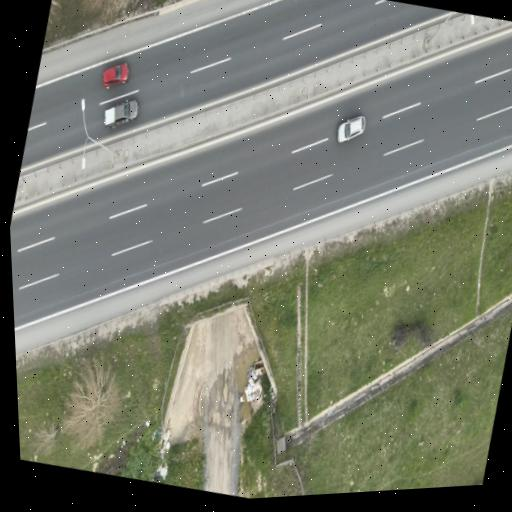car: (104, 100, 137, 127), (336, 116, 364, 142), (102, 63, 128, 88)
